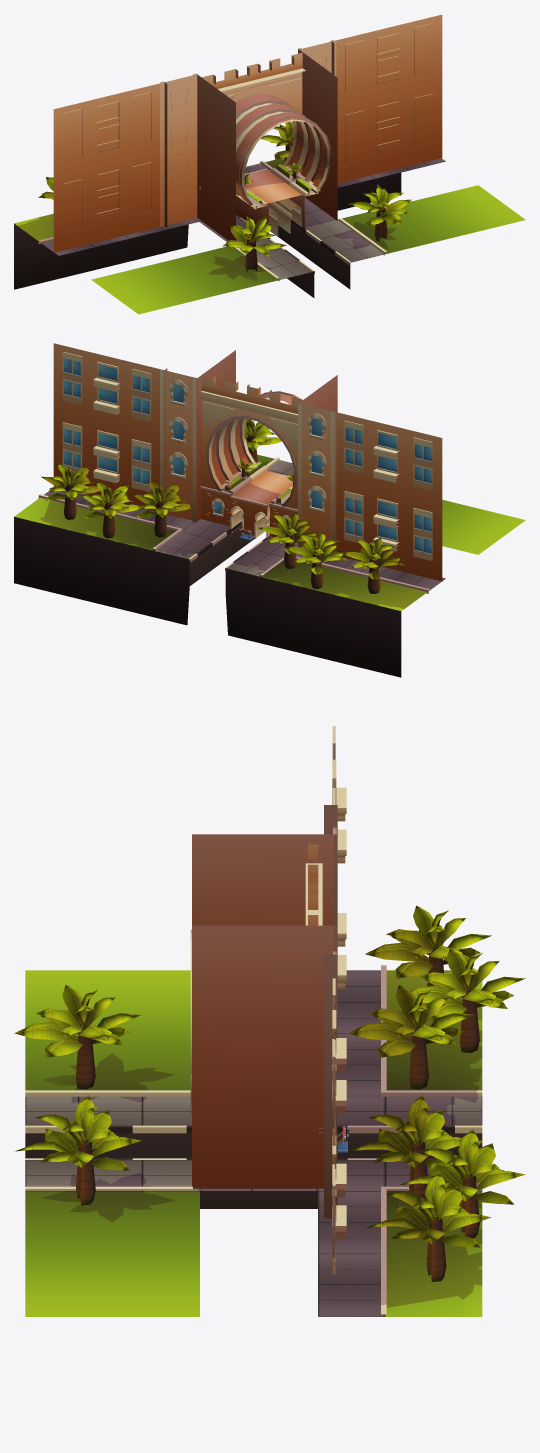
File: Swap.fbx
The picture shows the model from 3 angles, top to bottom: view 1: azimuth 30°, elevation 25°; view 2: azimuth 150°, elevation 25°; view 3: azimuth 270°, elevation 25°; orthographic projection. The views are drawn at different scales.
Visible parts, largest first — view 1: 1.104_Dubai_gates_base, 1.104_Dubai_gates_sides; view 2: 1.104_Dubai_gates_base, 1.104_Dubai_gates_sides; view 3: 1.104_Dubai_gates_base.
Part boxes in pixels (x1,y1,x2,y2): 1.104_Dubai_gates_base: (14,14,525,314); 1.104_Dubai_gates_sides: (244,168,302,236); 1.104_Dubai_gates_base: (14,343,525,677); 1.104_Dubai_gates_sides: (230,470,293,540); 1.104_Dubai_gates_base: (14,726,525,1316).
Bounding box in the file's own units: 43973 × 22662 × 27264.
